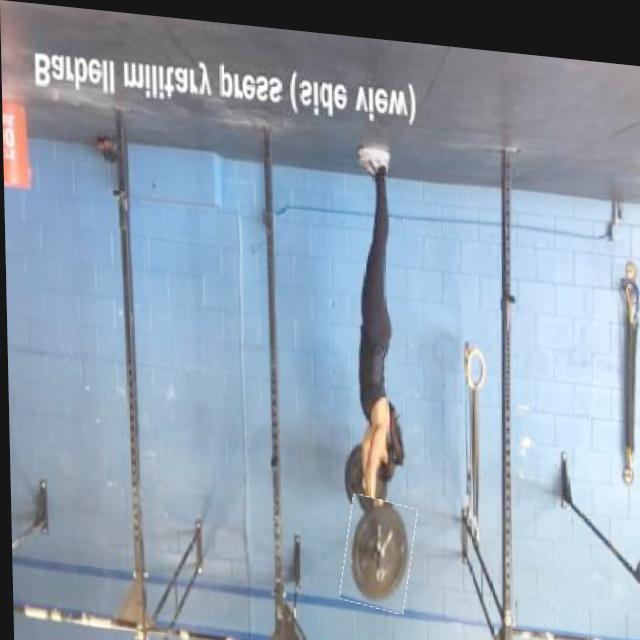barbell: (340, 488, 414, 606)
